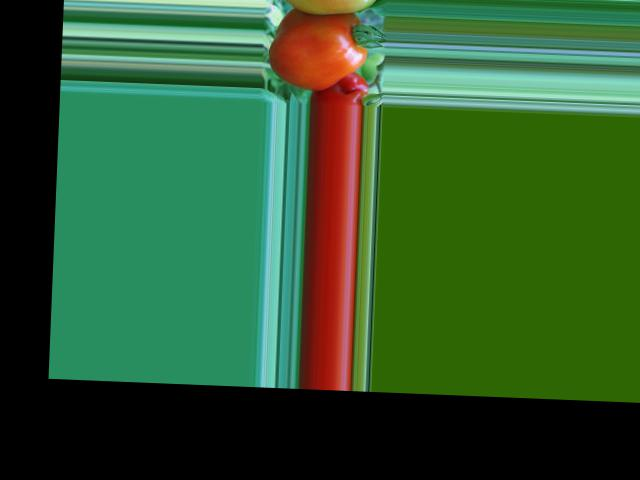tomato: (267, 11, 368, 92)
